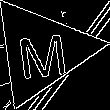M_N: (13, 23, 70, 79)
